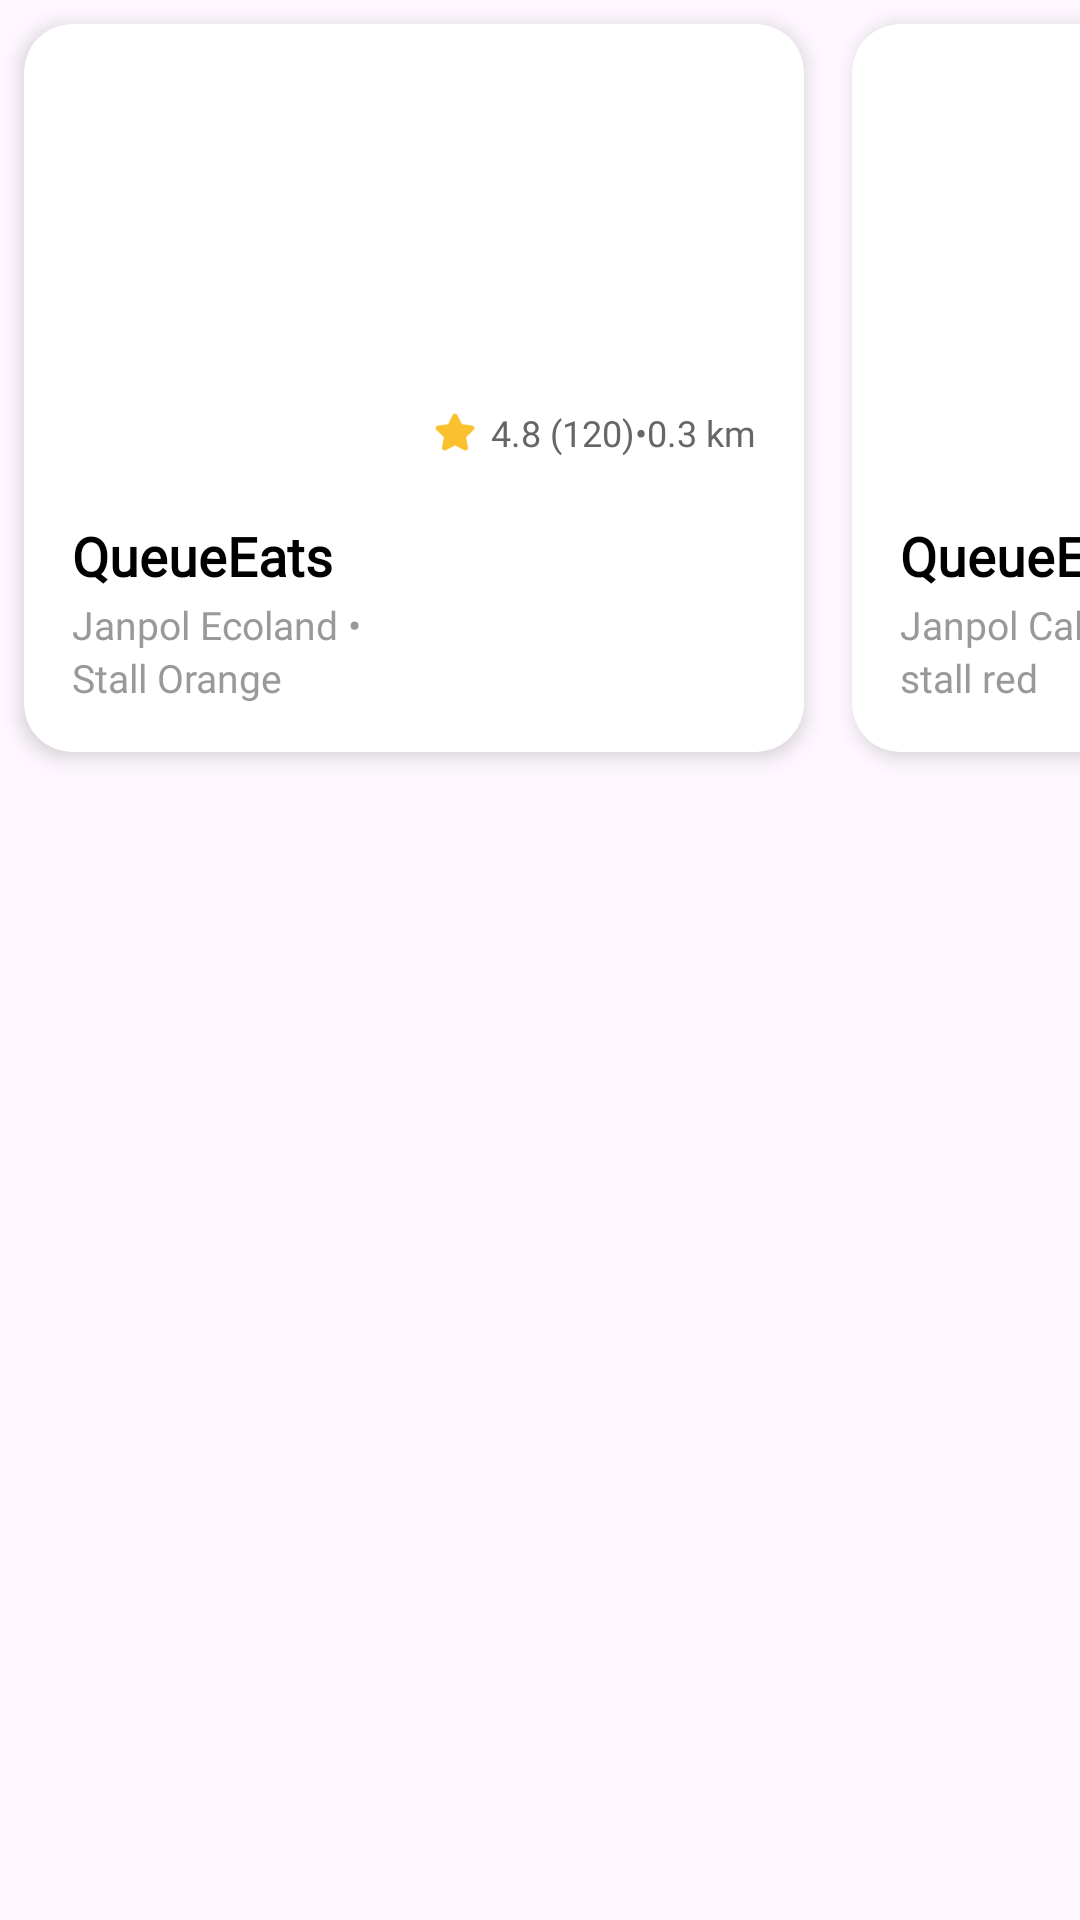

Point at icon controls on the screen. Image size 1080px x 1920px, points as (x=x, y=y).
Rating Star: (x=455, y=432)
